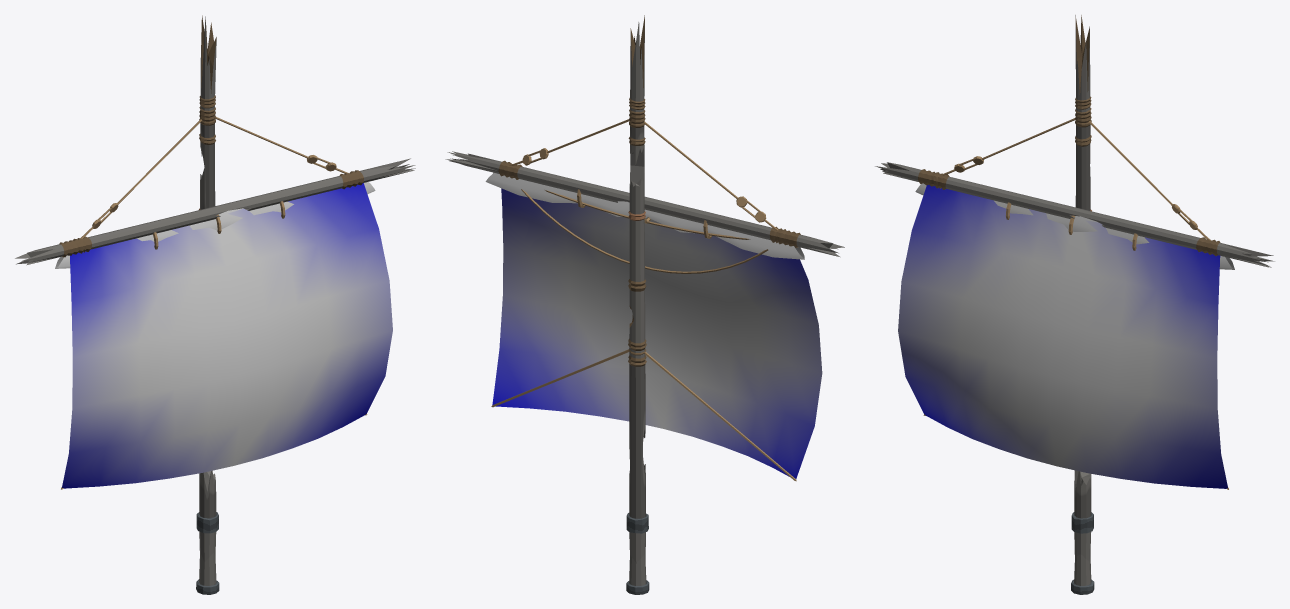
Rendered from SM_Veh_Ship_M_Mast_Front_02.fbx.
3 views of the same model, side by side, from view 1: azimuth 30°, elevation 25°; view 2: azimuth 150°, elevation 25°; view 3: azimuth 330°, elevation 25° (orthographic).
Parts seen in each view (by area): view 1: SM_Veh_Ship_M_Mast_Front_02_Boom_01, SM_Veh_Ship_M_Mast_Front_02; view 2: SM_Veh_Ship_M_Mast_Front_02_Boom_01, SM_Veh_Ship_M_Mast_Front_02; view 3: SM_Veh_Ship_M_Mast_Front_02_Boom_01, SM_Veh_Ship_M_Mast_Front_02.
Boxes of the visible parts, bbox=[...] form: SM_Veh_Ship_M_Mast_Front_02_Boom_01: bbox=[55, 182, 392, 489]; SM_Veh_Ship_M_Mast_Front_02: bbox=[15, 15, 415, 594]; SM_Veh_Ship_M_Mast_Front_02_Boom_01: bbox=[485, 172, 822, 481]; SM_Veh_Ship_M_Mast_Front_02: bbox=[445, 15, 844, 594]; SM_Veh_Ship_M_Mast_Front_02_Boom_01: bbox=[898, 183, 1234, 489]; SM_Veh_Ship_M_Mast_Front_02: bbox=[875, 15, 1274, 594].
Size of the model in its own units: 1856 by 2587 by 310.
